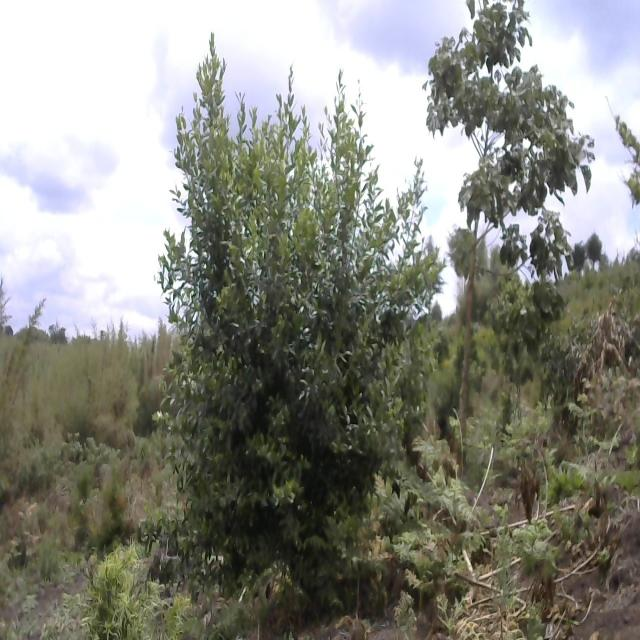Olea europea -africana-: (177, 59, 425, 601)
